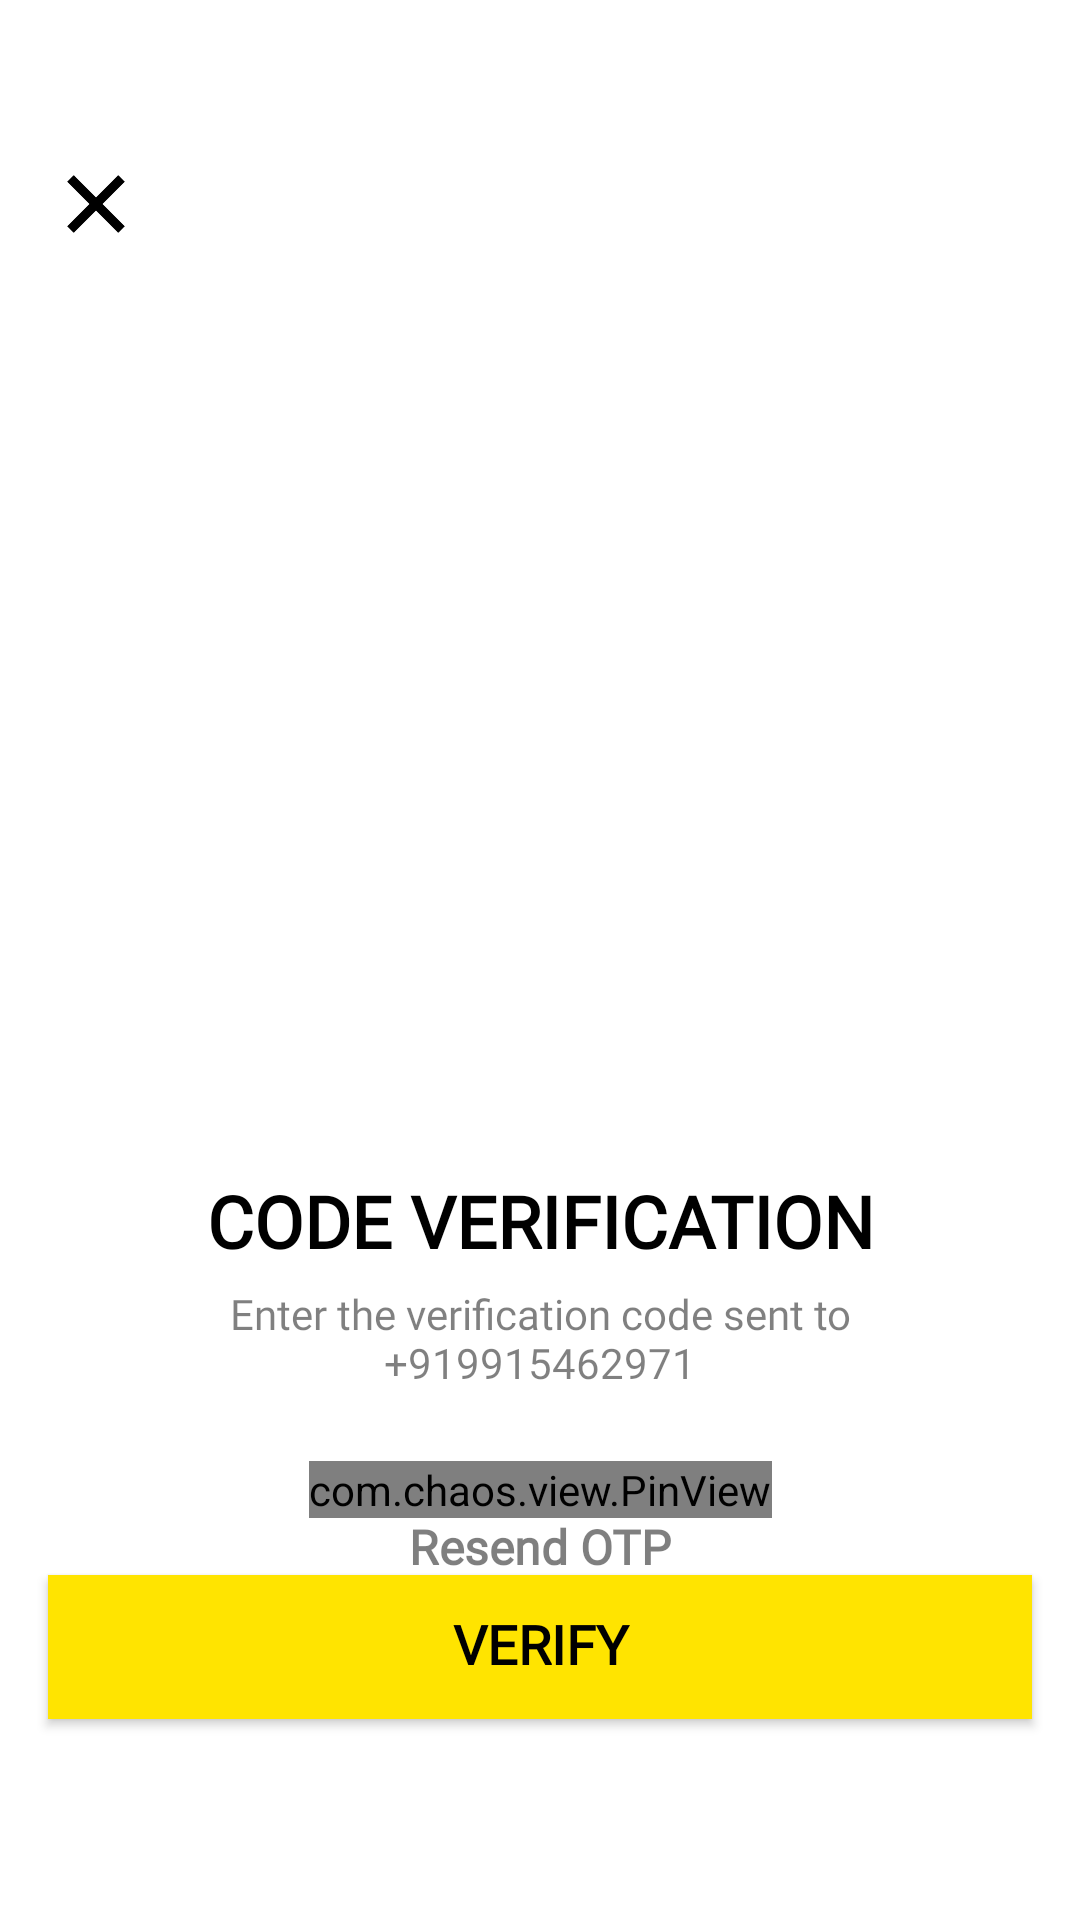

Screen size 1080px×1920px. Icon name, then its center in pixels as (x=x, y=y):
close: (x=96, y=204)
